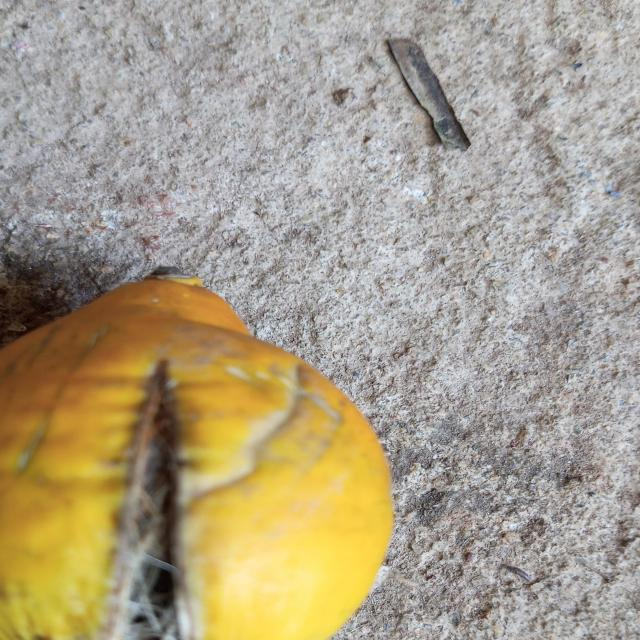damaged: (0, 267, 392, 640)
